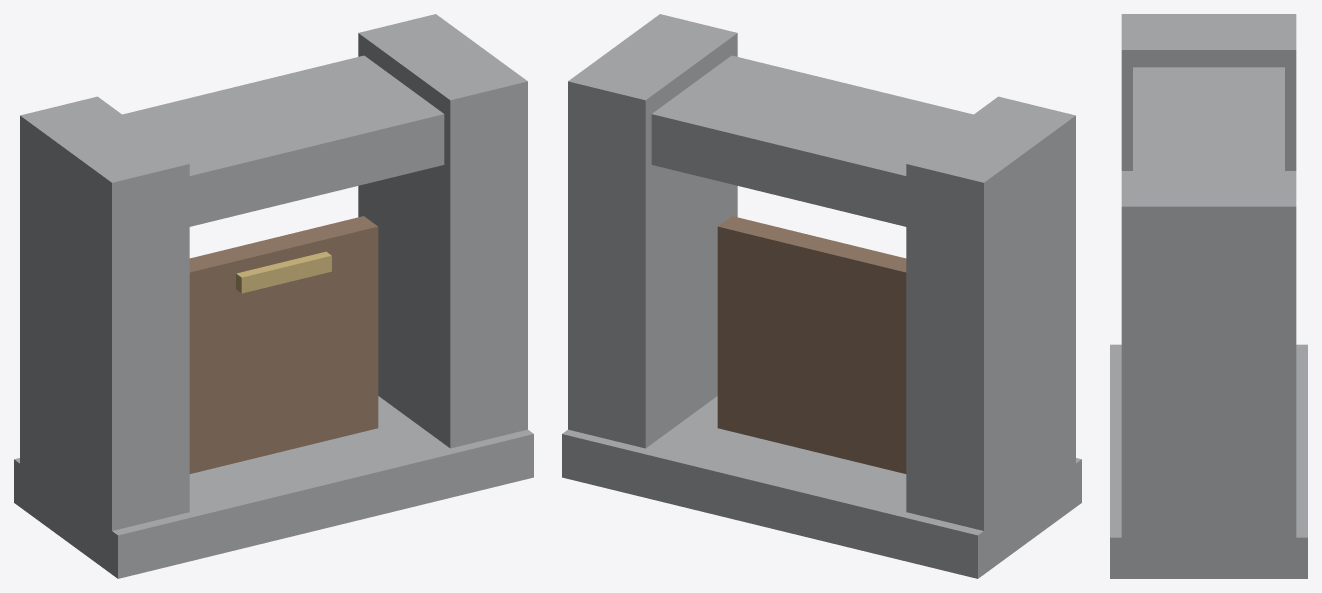
File: puerta_castillo.glb
The picture shows the model from 3 angles, left to right: view 1: azimuth 30°, elevation 25°; view 2: azimuth 150°, elevation 25°; view 3: azimuth 270°, elevation 25°; orthographic projection. The views are drawn at different scales.
Visible parts, largest first — view 1: part_001, part_002, part_004, part_000, part_003, part_005; view 2: part_001, part_002, part_004, part_000, part_003; view 3: part_002, part_003, part_000, part_001.
Boxes of the visible parts, bbox=[...] form: part_001: bbox=[20, 96, 189, 533]; part_002: bbox=[358, 14, 527, 448]; part_004: bbox=[189, 216, 378, 473]; part_000: bbox=[14, 396, 533, 578]; part_003: bbox=[122, 55, 444, 226]; part_005: bbox=[236, 251, 331, 293]; part_001: bbox=[906, 96, 1075, 530]; part_002: bbox=[568, 14, 737, 448]; part_004: bbox=[717, 216, 906, 473]; part_000: bbox=[562, 396, 1081, 578]; part_003: bbox=[651, 55, 973, 226]; part_002: bbox=[1121, 171, 1296, 551]; part_003: bbox=[1133, 67, 1284, 170]; part_000: bbox=[1110, 344, 1307, 578]; part_001: bbox=[1121, 14, 1296, 170].
Bounding box in the file's own units: 3 × 2.7 × 1.3.
